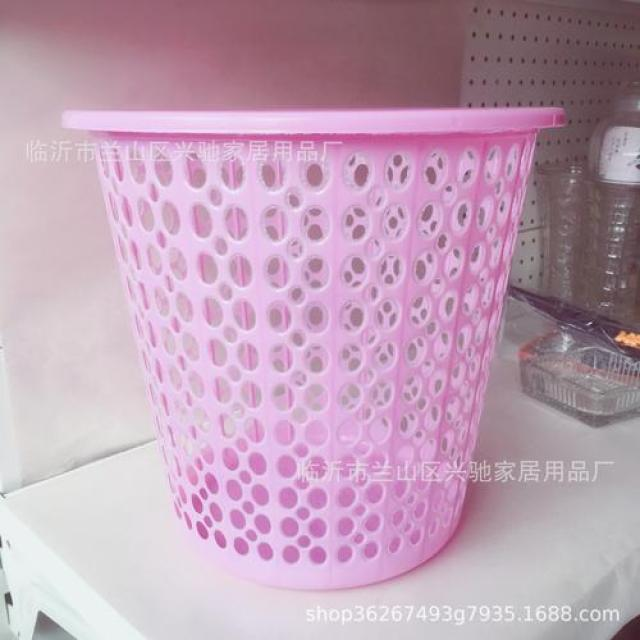dustbin: (53, 98, 569, 604)
